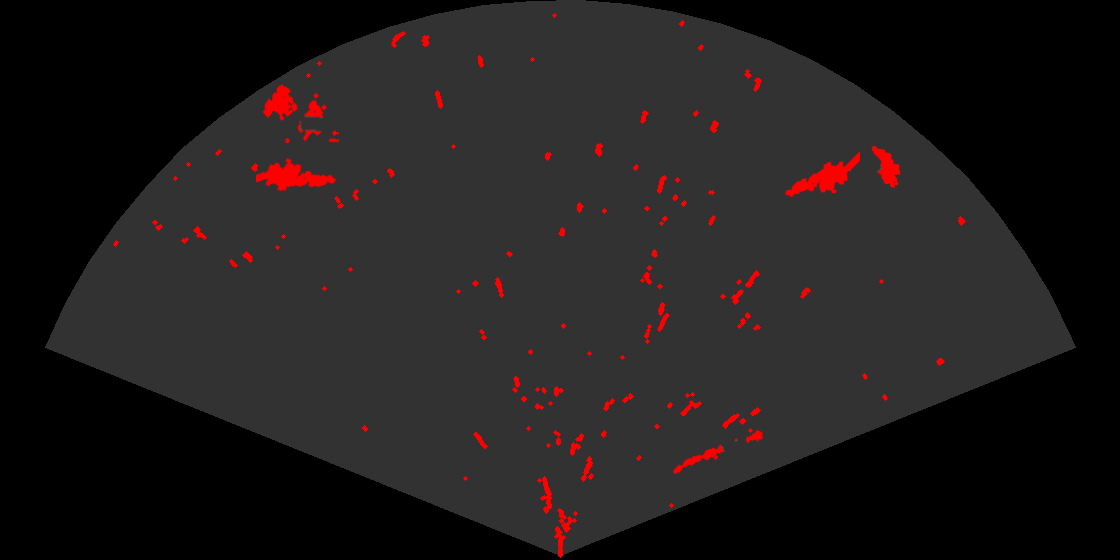AUV: (870, 144, 902, 190)
cage: (261, 83, 339, 143)
chain: (672, 428, 766, 476)
frogman: (784, 150, 860, 199), (256, 156, 338, 193)
